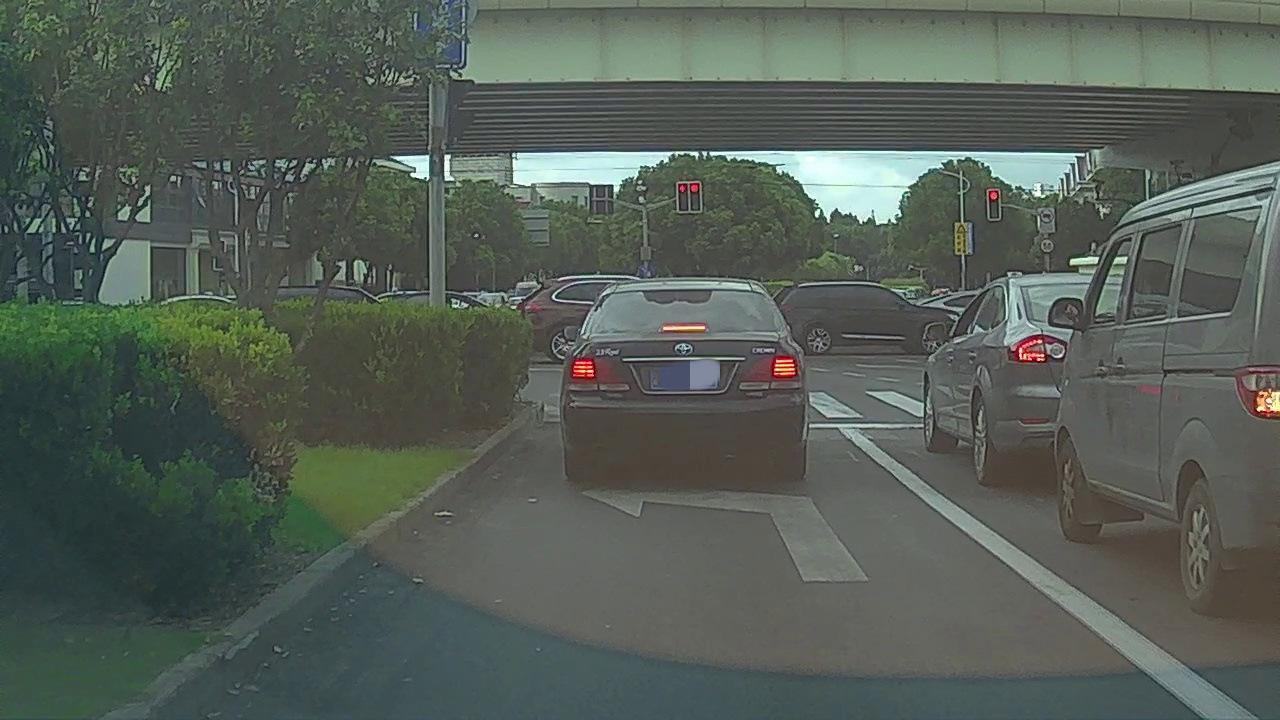traffic_light: (988, 189, 1001, 220), (690, 182, 701, 211), (679, 182, 688, 211)
